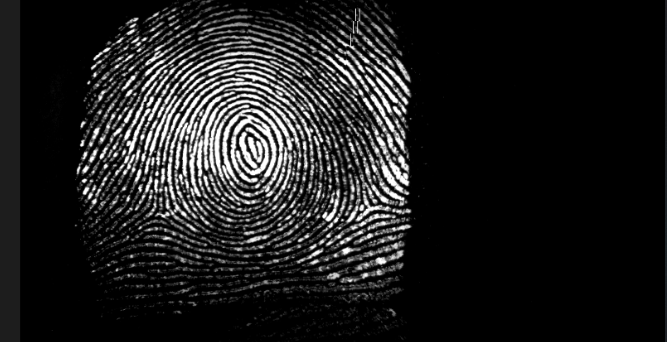deltas: (130, 188, 188, 233), (343, 171, 387, 222)
nucleo: (225, 118, 272, 176)
